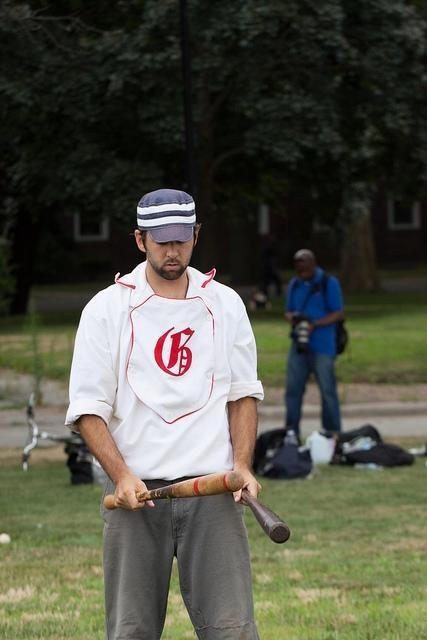bicycle: (22, 388, 85, 472)
